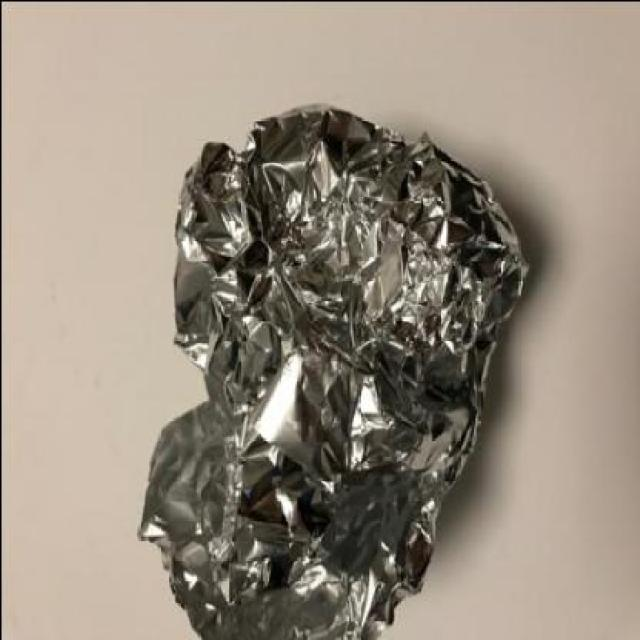METAL: (134, 101, 528, 638)
